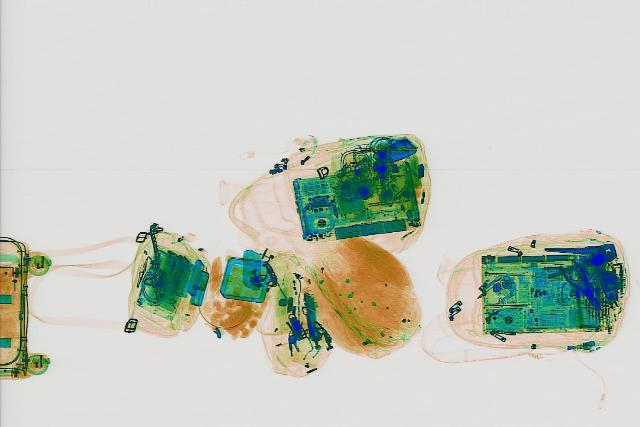Pliers: (532, 237, 622, 276), (554, 256, 612, 313)
